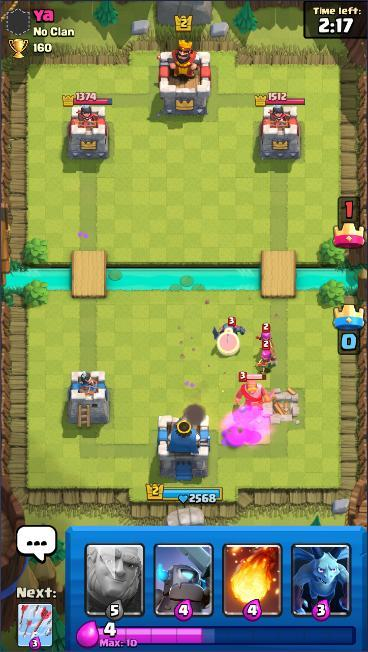enemy_archer: (254, 340, 279, 378), (254, 322, 277, 353)
enemy_knight: (232, 370, 274, 414)
enemy_mini_pekka: (211, 315, 247, 358)
